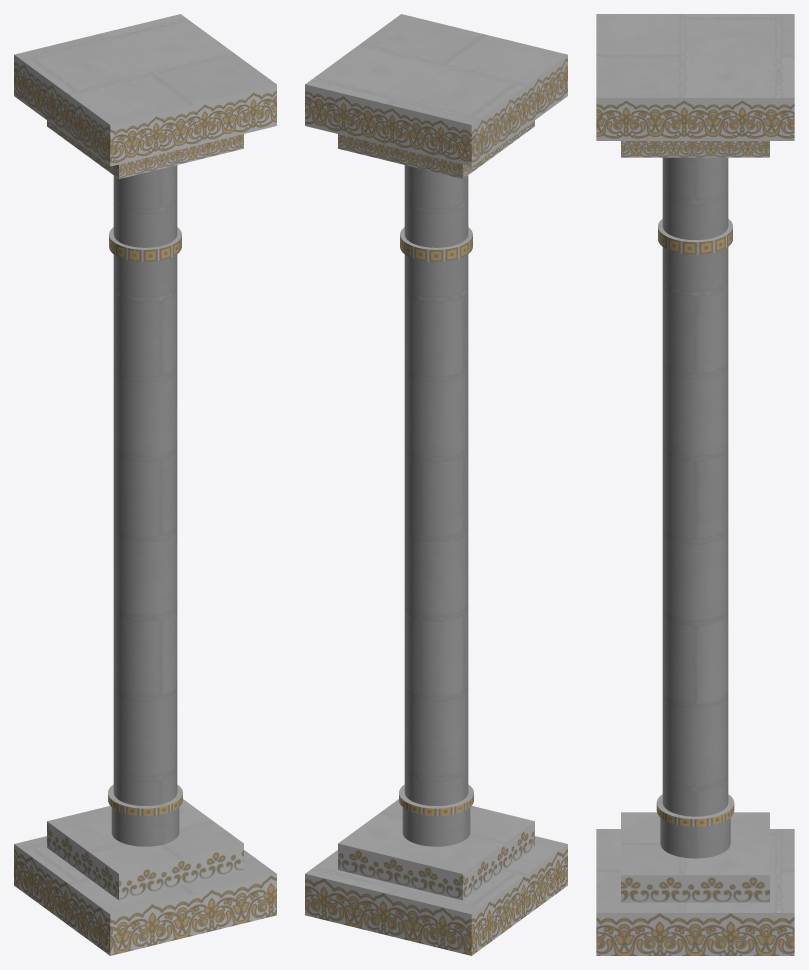
The model's file is SM_column.glb.
The picture shows the model from 3 angles, left to right: view 1: azimuth 30°, elevation 25°; view 2: azimuth 150°, elevation 25°; view 3: azimuth 270°, elevation 25°; orthographic projection. The views are drawn at different scales.
Parts seen in each view (by area): view 1: SM_column; view 2: SM_column; view 3: SM_column.
Part boxes in pixels (left/top/right/bottom): SM_column: left=14, top=14, right=276, bottom=955; SM_column: left=305, top=14, right=567, bottom=955; SM_column: left=596, top=14, right=794, bottom=955.
Size of the model in its own units: 1.04 by 4.95 by 1.04.
Materials: 2 (2 with a texture image).
